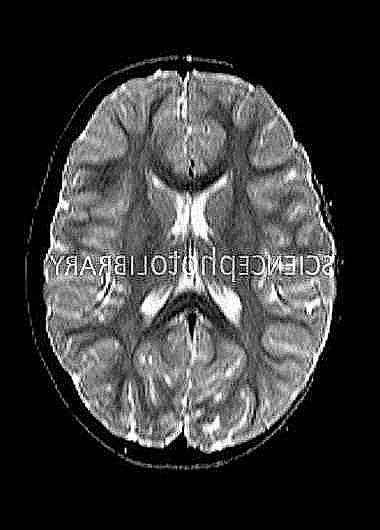Normal_Brain: (2, 7, 380, 530)
